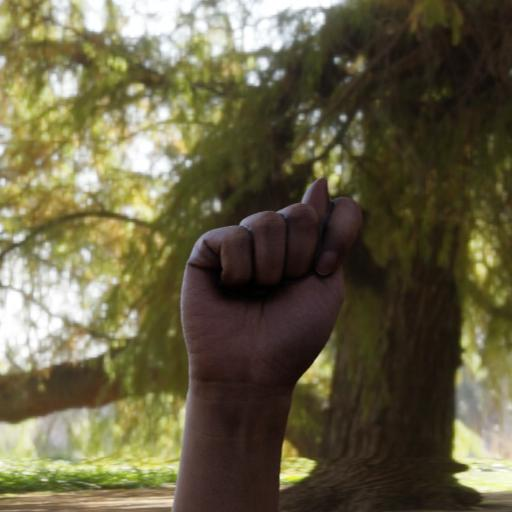T: (176, 172, 372, 398)
